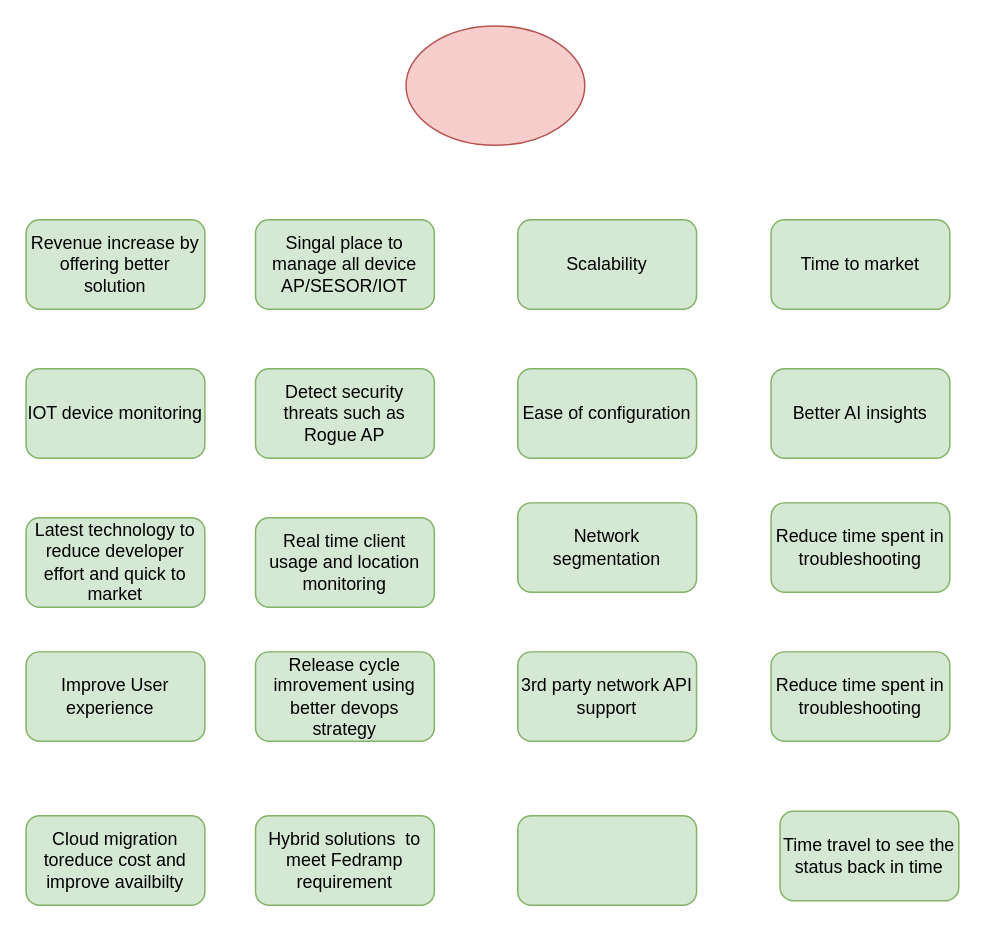
The diagram is 985 pixels wide and 943 high, and some of its shapes have lost their labels. The centre of each missing label's shape, as x and y in pixels:
"Edge connectivity" goes at (606,859).
"Goals" goes at (495,85).
